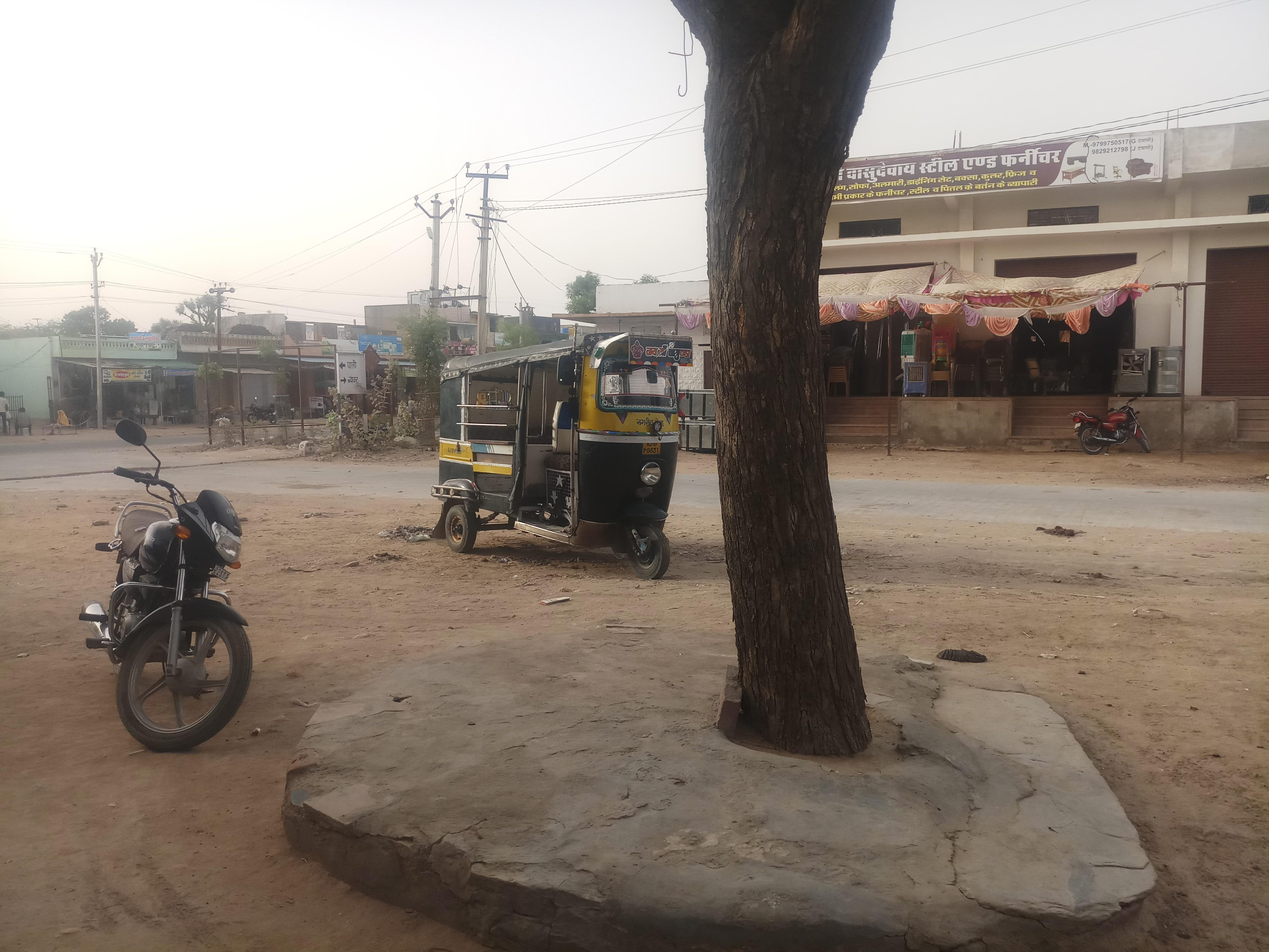Auto: (437, 317, 707, 581)
